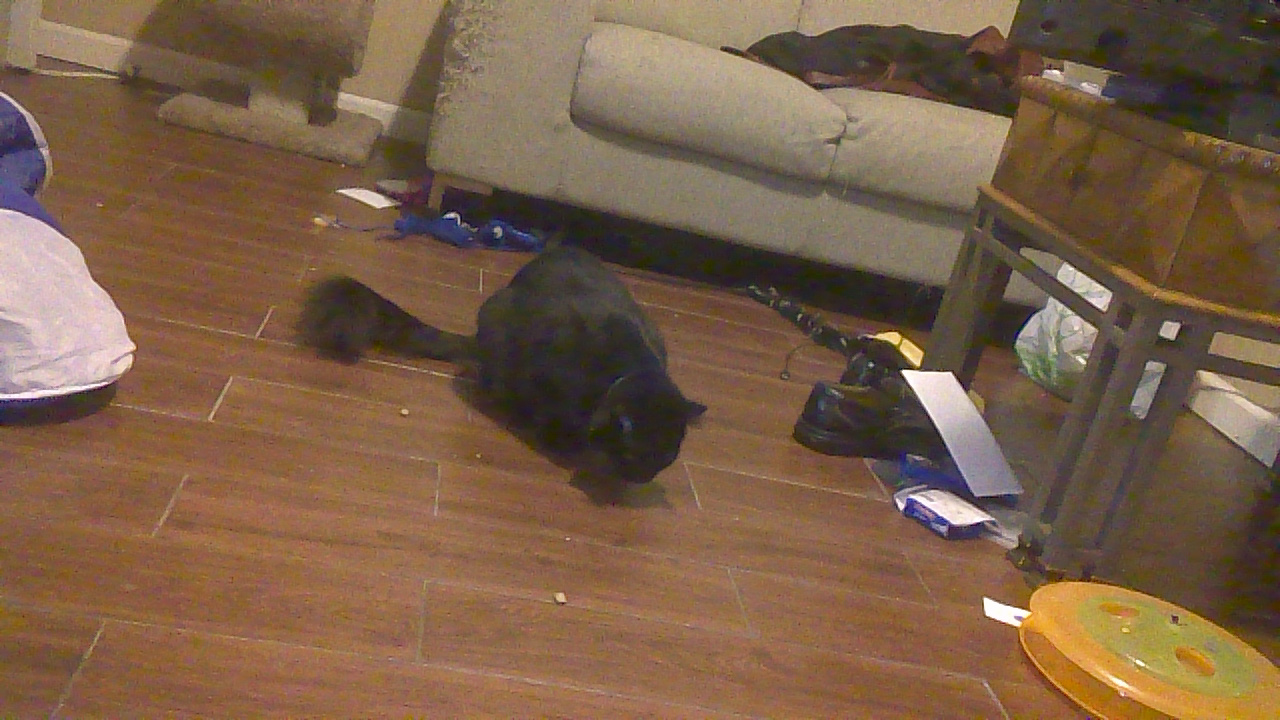cat: (294, 243, 712, 497)
